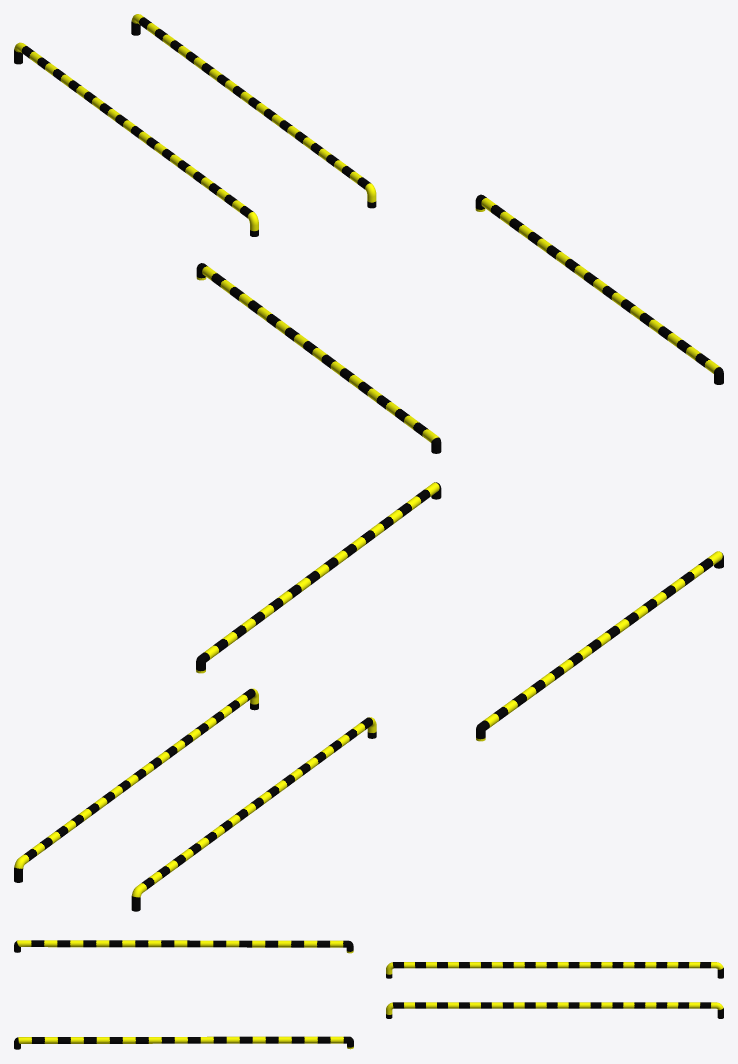
The model's file is roddd_3_1.FBX.
3 renders of one model, top to bottom at view 1: azimuth 30°, elevation 25°; view 2: azimuth 150°, elevation 25°; view 3: azimuth 270°, elevation 25°, orthographic. The views are drawn at different scales.
Visible parts, largest first — view 1: rod_3_1; view 2: rod_3_1; view 3: rod_3_1.
Boxes of the visible parts, bbox=[...] form: rod_3_1: bbox=[14, 14, 723, 453]; rod_3_1: bbox=[14, 482, 723, 911]; rod_3_1: bbox=[14, 940, 723, 1049].
Bounding box in the file's own units: 1348 × 109 × 4049.
